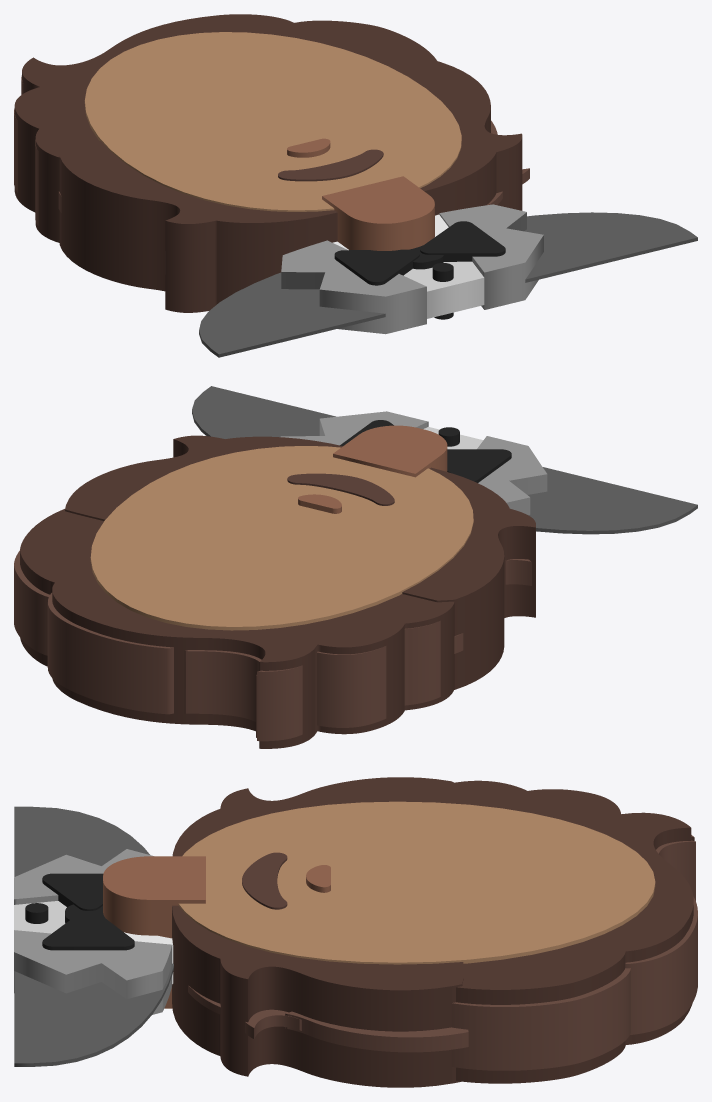
The model's file is emoji_u1f935_1f3fd.glb.
3 views of the same model, one above another, from view 1: azimuth 30°, elevation 25°; view 2: azimuth 150°, elevation 25°; view 3: azimuth 270°, elevation 25° (orthographic). The views are drawn at different scales.
Visible parts, largest first — view 1: emoji_u1f935_1f3fd; view 2: emoji_u1f935_1f3fd; view 3: emoji_u1f935_1f3fd.
Part boxes in pixels (x1,y1,x2,y2): emoji_u1f935_1f3fd: (14, 14, 697, 357); emoji_u1f935_1f3fd: (14, 386, 697, 748); emoji_u1f935_1f3fd: (14, 777, 697, 1087).
Size of the model in its own units: 0.0294 by 0.006 by 0.0331.
